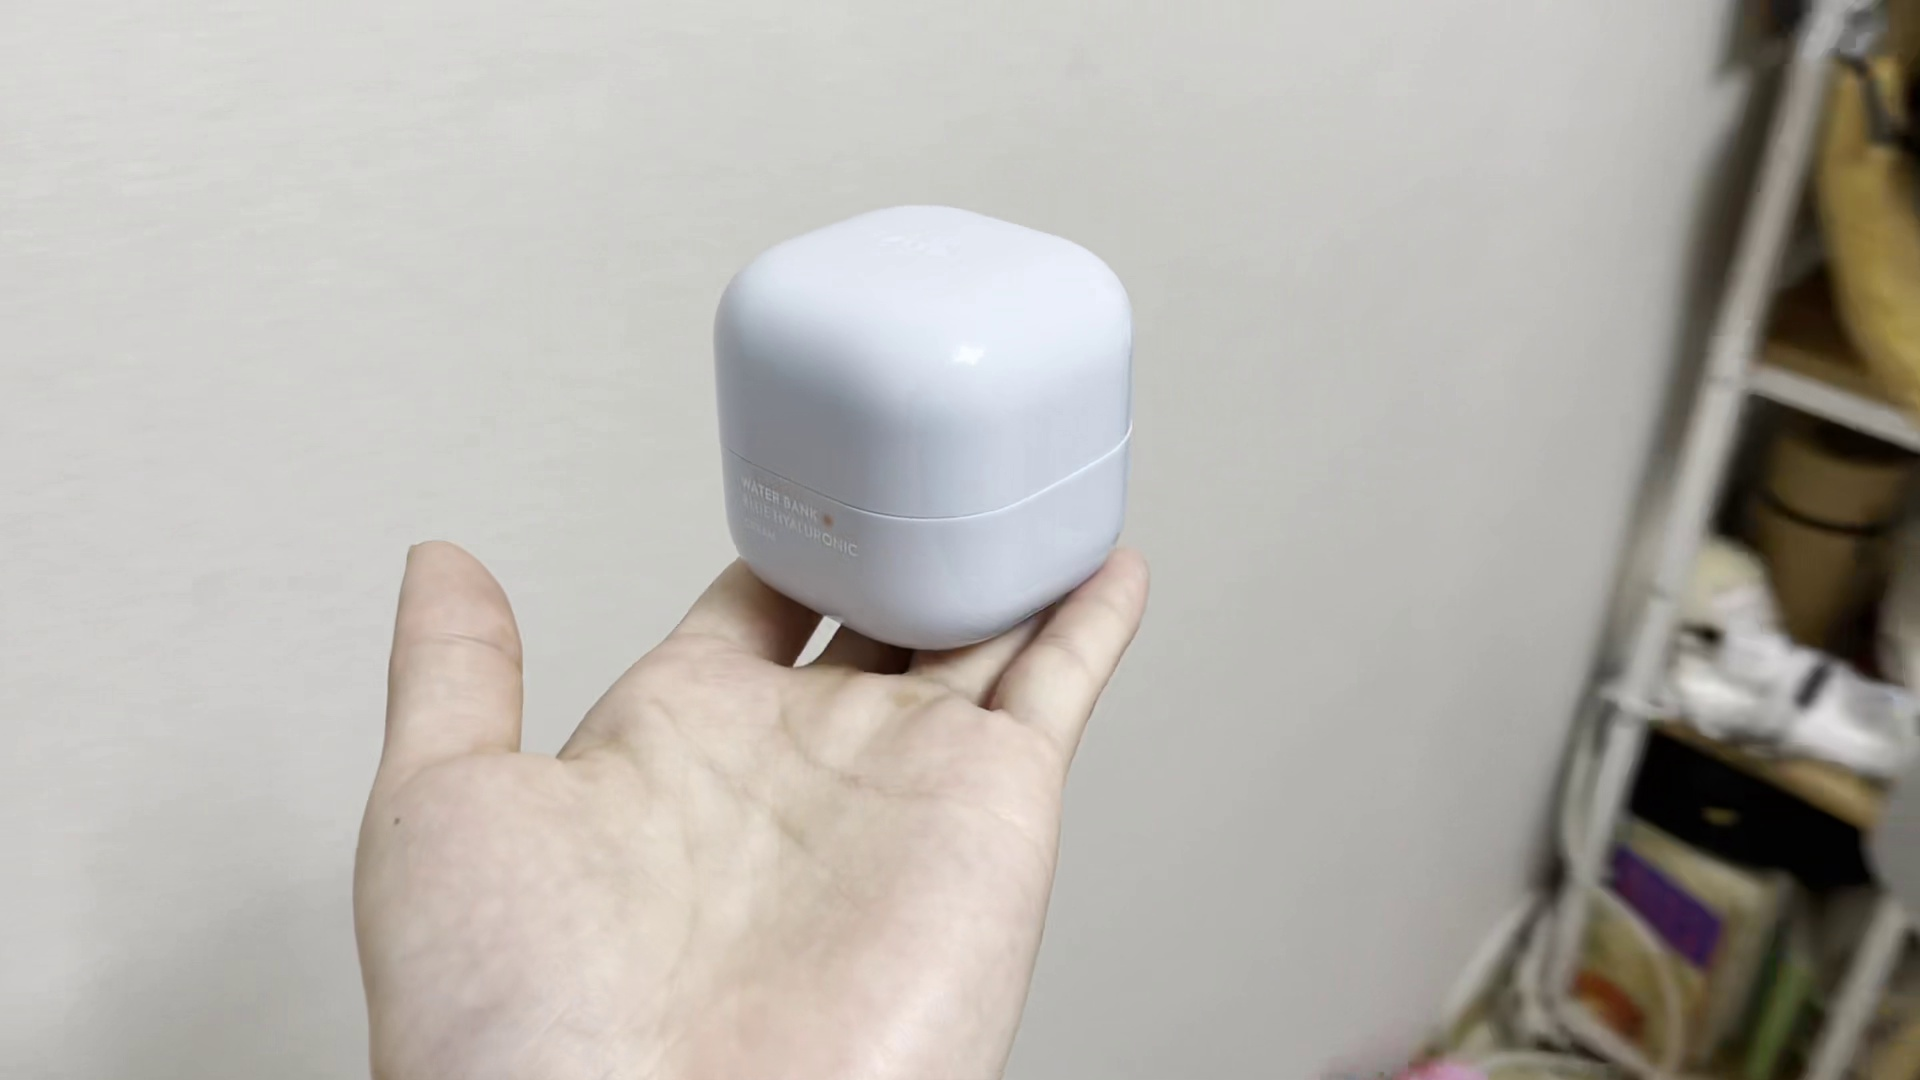cream: (724, 206, 1127, 650)
